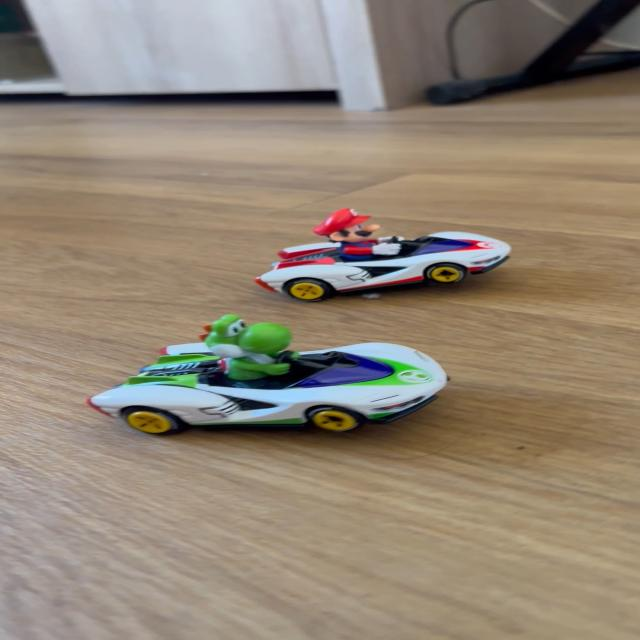mario: (249, 212, 524, 300)
yoshi: (82, 311, 466, 444)
